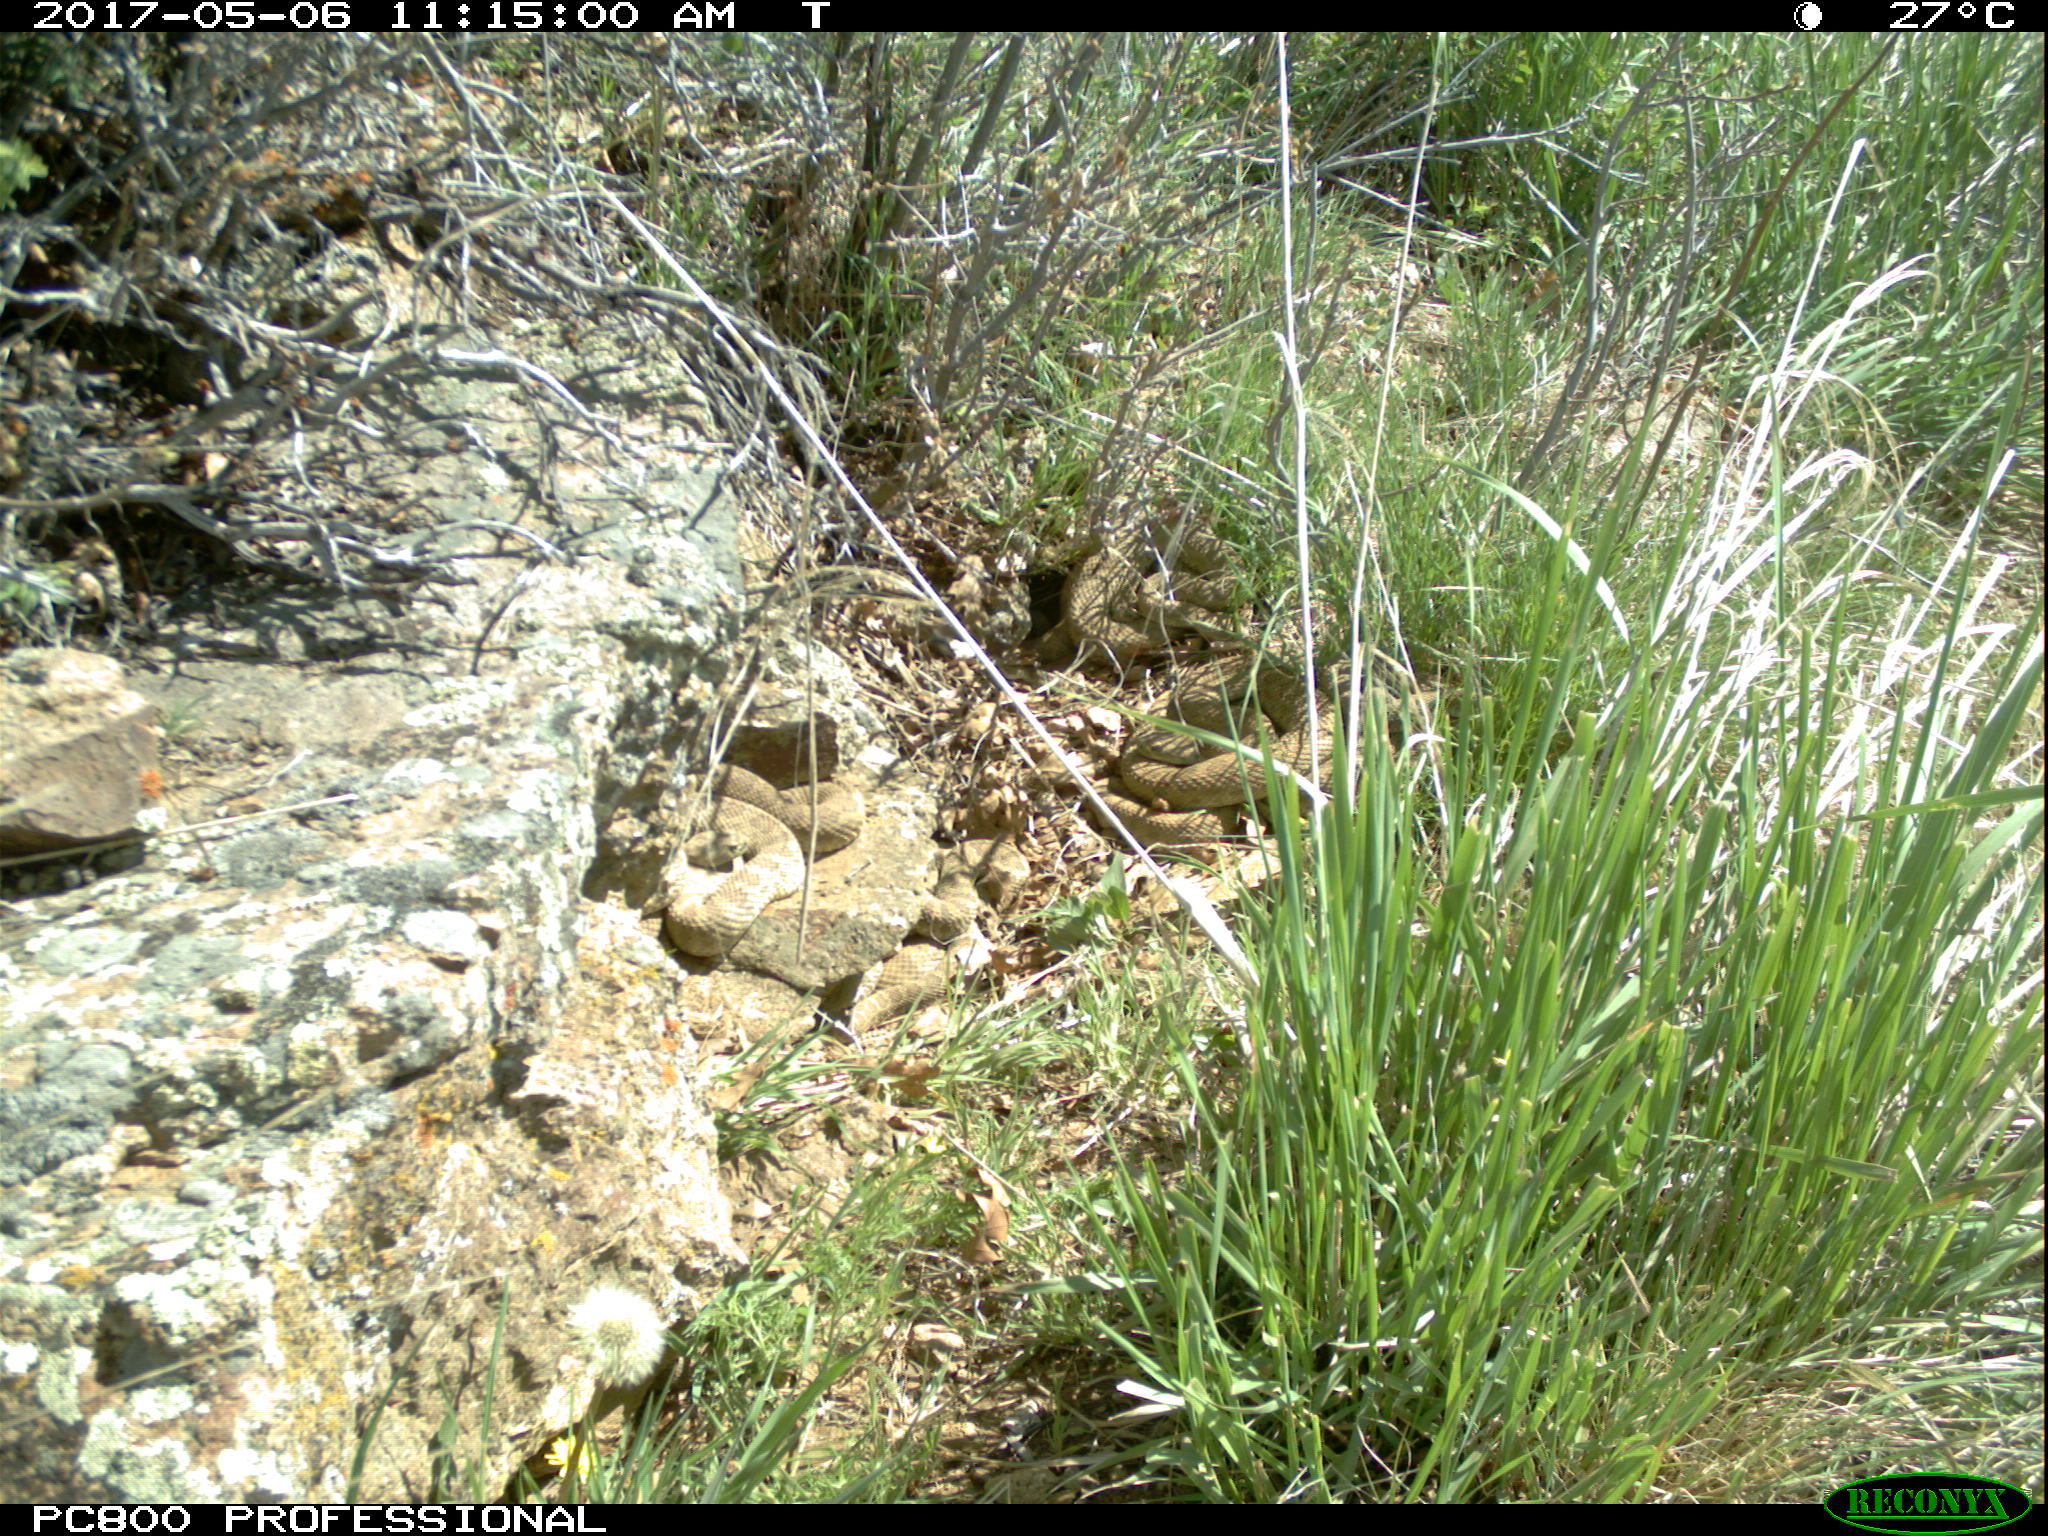snake: (1063, 544, 1372, 858), (648, 758, 898, 958), (1121, 666, 1379, 850), (1069, 552, 1274, 657)
